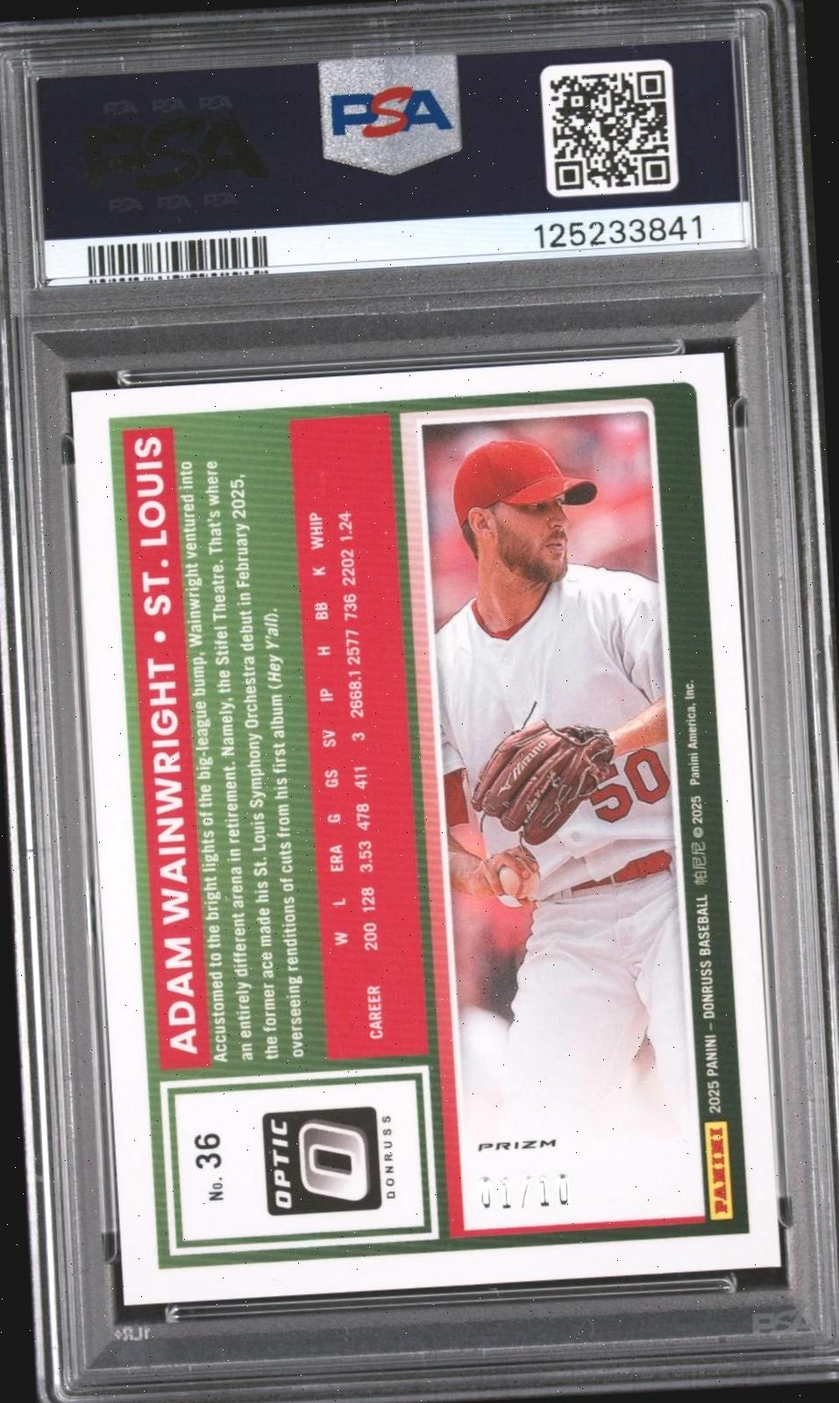card-2UtV: (70, 351, 782, 1306)
